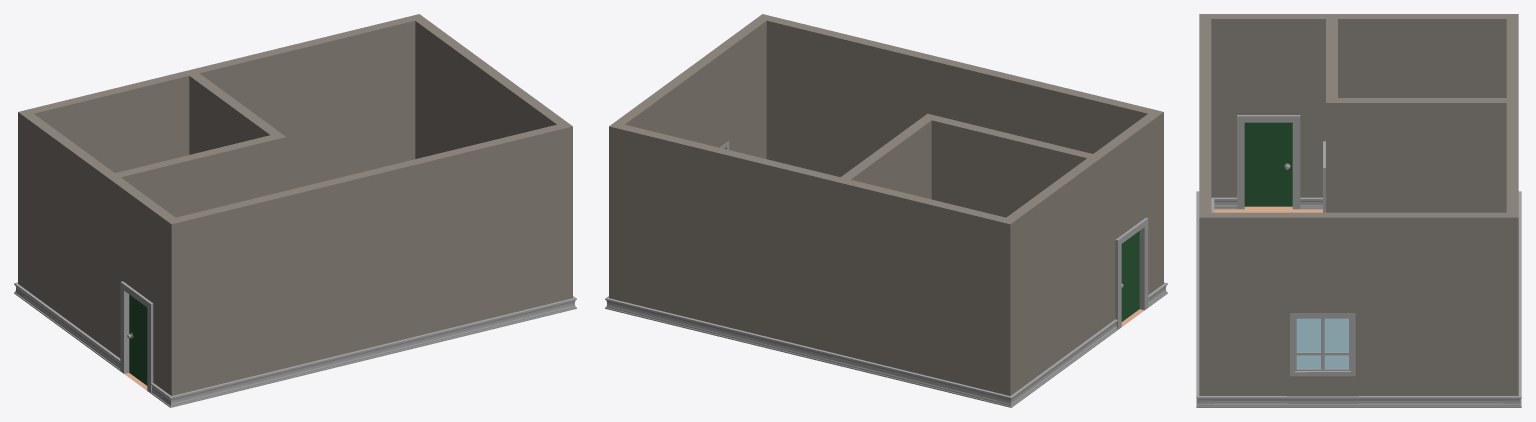
File: lvl_01_DormRoom_(Revised).fbx
The picture shows the model from 3 angles, left to right: view 1: azimuth 30°, elevation 25°; view 2: azimuth 150°, elevation 25°; view 3: azimuth 270°, elevation 25°; orthographic projection. The views are drawn at different scales.
Parts seen in each view (by area): view 1: SM_Wall_1x14_Mesh5, SM_Wall_1x14_Mesh, SM_Wall_1x9_Mesh, SM_Wall_1x10_Mesh, SM_Wall_1x4_Mesh1, SM_DoorWall_1x6_Mesh1, SM_DoorWall_1x6_Mesh2, SM_WallTrim_06, SM_Wall_1x9_Mesh2, SM_WallCorner_1x1_Mesh, SM_WallCorner_1x1_Mesh3, SM_WallWindow_02_1x4_Mesh (+10 smaller); view 2: SM_Wall_1x14_Mesh, SM_Wall_1x14_Mesh5, SM_Wall_1x10_Mesh, SM_Wall_1x9_Mesh, SM_DoorWall_1x6_Mesh1, SM_DoorWall_1x6_Mesh2, SM_Wall_1x4_Mesh, SM_Wall_1x9_Mesh2, SM_WallCorner_1x1_Mesh6, SM_WallWindow_02_1x4_Mesh, SM_Wall_1x4_Mesh1, SM_WallThreeWay_1x1_Mesh1 (+11 smaller); view 3: SM_Wall_1x4_Mesh1, SM_Wall_1x9_Mesh2, SM_DoorWall_1x6_Mesh1, SM_Wall_1x9_Mesh, SM_Wall_1x4_Mesh, SM_WallWindow_02_1x4_Mesh, SM_WindowFrame_06, SM_Door_low, SM_WallCorner_1x1_Mesh3, SM_WallCorner_1x1_Mesh4, SM_WallTrim_04 (×2), SM_DoorTrim_01 (+13 smaller).
Part boxes in pixels (<box>): SM_Wall_1x14_Mesh5: <box>178,125,560,392</box>; SM_Wall_1x14_Mesh: <box>196,17,412,190</box>; SM_Wall_1x9_Mesh: <box>25,115,112,345</box>; SM_Wall_1x10_Mesh: <box>31,72,186,172</box>; SM_Wall_1x4_Mesh1: <box>416,19,495,158</box>; SM_DoorWall_1x6_Mesh1: <box>112,178,173,390</box>; SM_DoorWall_1x6_Mesh2: <box>148,143,243,217</box>; SM_WallTrim_06: <box>184,301,561,403</box>; SM_Wall_1x9_Mesh2: <box>190,74,278,154</box>; SM_WallCorner_1x1_Mesh: <box>164,216,183,395</box>; SM_WallCorner_1x1_Mesh3: <box>555,121,572,301</box>; SM_WallWindow_02_1x4_Mesh: <box>486,70,530,141</box>; SM_Wall_1x14_Mesh: <box>621,125,837,352</box>; SM_Wall_1x14_Mesh5: <box>769,17,1150,176</box>; SM_Wall_1x10_Mesh: <box>847,180,1003,392</box>; SM_Wall_1x9_Mesh: <box>1008,159,1095,390</box>; SM_DoorWall_1x6_Mesh1: <box>1095,115,1156,326</box>; SM_DoorWall_1x6_Mesh2: <box>964,124,1059,217</box>; SM_Wall_1x4_Mesh: <box>721,19,765,158</box>; SM_Wall_1x9_Mesh2: <box>842,119,930,198</box>; SM_WallCorner_1x1_Mesh6: <box>998,216,1017,395</box>; SM_WallWindow_02_1x4_Mesh: <box>686,45,730,150</box>; SM_Wall_1x4_Mesh1: <box>616,70,695,141</box>; SM_WallThreeWay_1x1_Mesh1: <box>832,176,852,355</box>; SM_Wall_1x4_Mesh1: <box>1359,212,1503,395</box>; SM_Wall_1x9_Mesh2: <box>1341,98,1503,212</box>; SM_DoorWall_1x6_Mesh1: <box>1214,14,1322,197</box>; SM_Wall_1x9_Mesh: <box>1341,14,1503,97</box>; SM_Wall_1x4_Mesh: <box>1214,212,1286,395</box>; SM_WallWindow_02_1x4_Mesh: <box>1286,212,1358,396</box>; SM_WindowFrame_06: <box>1290,313,1355,376</box>; SM_Door_low: <box>1244,122,1292,206</box>; SM_WallCorner_1x1_Mesh3: <box>1199,211,1214,395</box>; SM_WallCorner_1x1_Mesh4: <box>1503,211,1518,395</box>; SM_WallTrim_04 (×2): <box>1214,396,1503,407</box>; SM_DoorTrim_01: <box>1214,115,1322,209</box>.
Bounding box in the file's own units: 154045 × 65908 × 102697.
